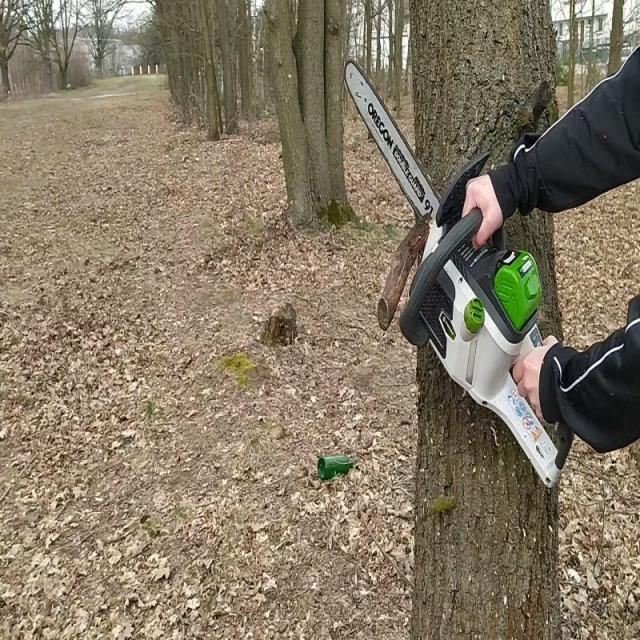Chainsaw: (338, 55, 576, 495)
